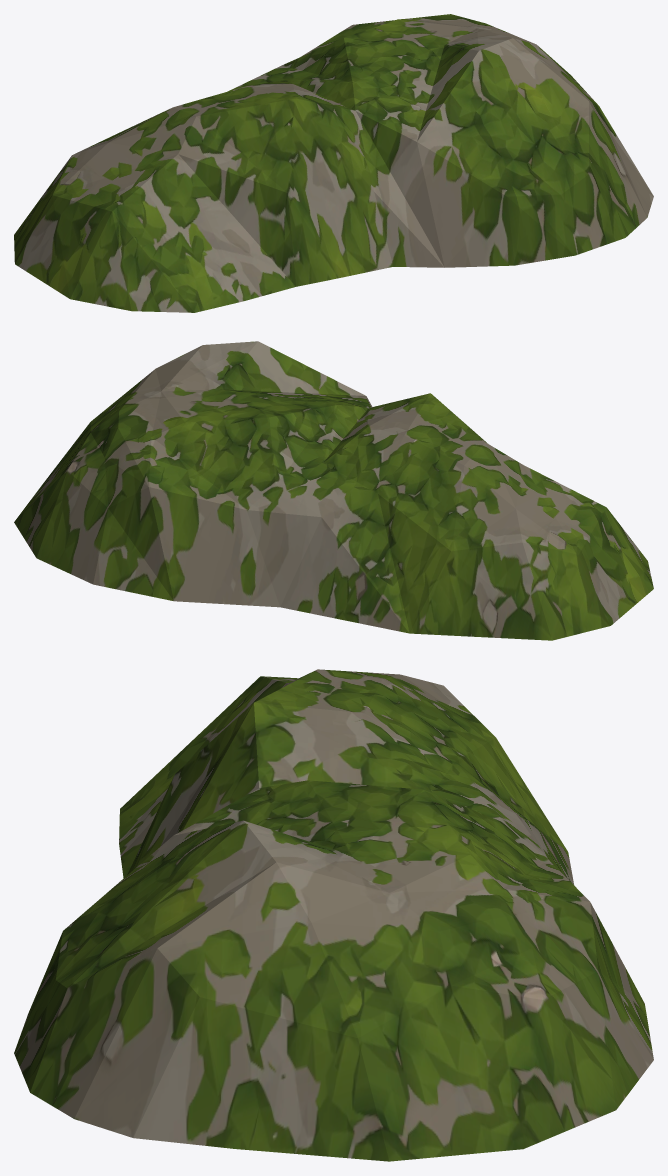
The model's file is samurai_SM_Env_Moss_05.gltf.
3 renders of one model, top to bottom at view 1: azimuth 30°, elevation 25°; view 2: azimuth 150°, elevation 25°; view 3: azimuth 270°, elevation 25°, orthographic. The views are drawn at different scales.
Visible parts, largest first — view 1: SM_Env_Moss_05; view 2: SM_Env_Moss_05; view 3: SM_Env_Moss_05.
Part boxes in pixels (left/top/right/bottom): SM_Env_Moss_05: left=14, top=14, right=653, bottom=312; SM_Env_Moss_05: left=14, top=341, right=653, bottom=640; SM_Env_Moss_05: left=14, top=669, right=653, bottom=1161.
Size of the model in its own units: 2.07 by 0.5132 by 1.35.
1 material, 1 textured.
